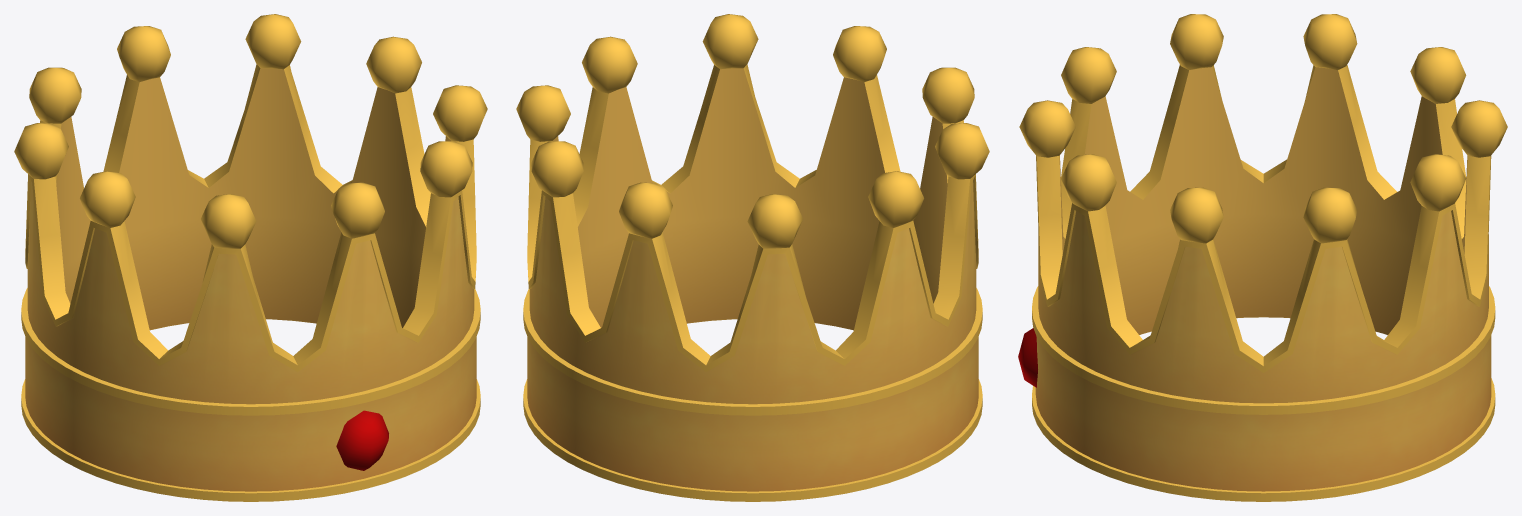
Rendered from KingCrown.fbx.
3 views of the same model, side by side, from view 1: azimuth 30°, elevation 25°; view 2: azimuth 150°, elevation 25°; view 3: azimuth 270°, elevation 25° (orthographic).
Parts seen in each view (by area): view 1: Crown; view 2: Crown; view 3: Crown.
Part boxes in pixels (x1,y1,x2,y2): Crown: (14,14,487,501); Crown: (516,14,989,501); Crown: (1018,14,1507,501).
Size of the model in its own units: 32.12 by 23.09 by 33.86.
1 material, 1 textured.
